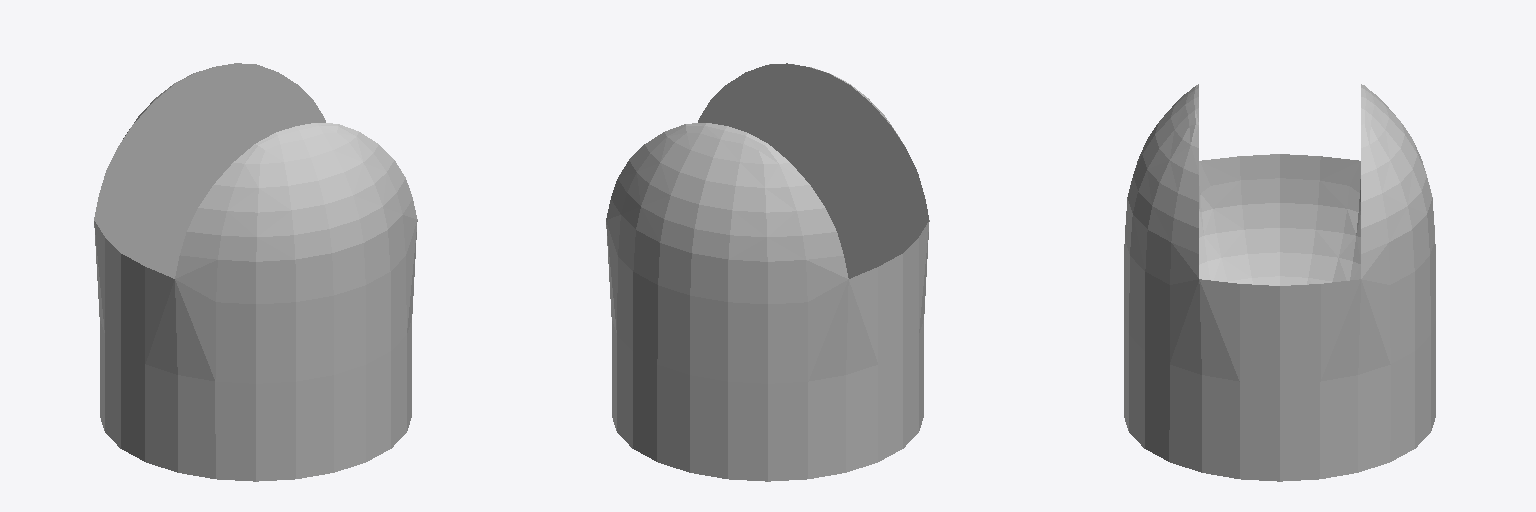
File: Tr-LeverBaseXYZ.obj
The picture shows the model from 3 angles: view 1: azimuth 30°, elevation 25°; view 2: azimuth 150°, elevation 25°; view 3: azimuth 270°, elevation 25°; orthographic projection.
Visible parts, largest first — view 1: Tr-LeverBaseXYZ_BaseLevier.003_BaseLevier.007; view 2: Tr-LeverBaseXYZ_BaseLevier.003_BaseLevier.007; view 3: Tr-LeverBaseXYZ_BaseLevier.003_BaseLevier.007.
Boxes of the visible parts, <box> form: Tr-LeverBaseXYZ_BaseLevier.003_BaseLevier.007: <box>94,63,417,481</box>; Tr-LeverBaseXYZ_BaseLevier.003_BaseLevier.007: <box>606,63,929,481</box>; Tr-LeverBaseXYZ_BaseLevier.003_BaseLevier.007: <box>1124,84,1435,481</box>.
Bounding box in the file's own units: 0.0725 × 0.0816 × 0.0725.